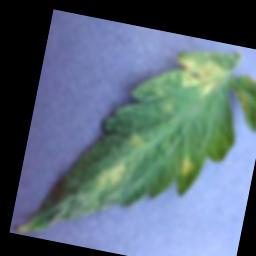Leaf_Mold: (169, 50, 231, 102), (94, 158, 126, 195), (177, 155, 199, 180)
